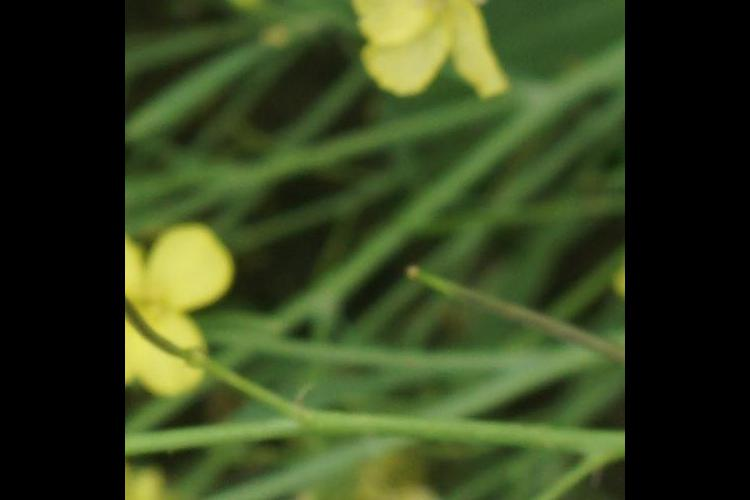yellow: (337, 1, 513, 104), (131, 223, 220, 418)
